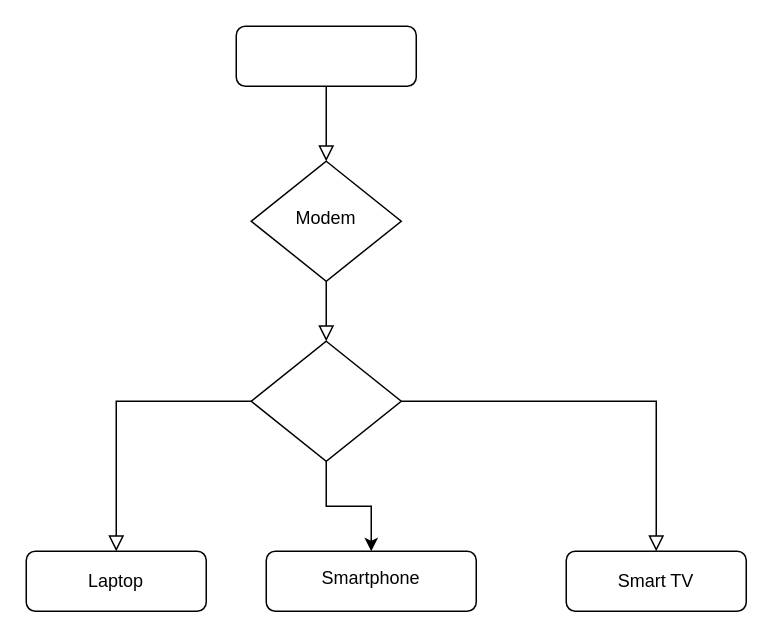
Image size: 773x638. Some labels were removed from this diagram. Here are the shapes that lost their labels. From the top down, the box of each, then its label:
(235, 25, 416, 86): Internet
(250, 340, 401, 461): Router
